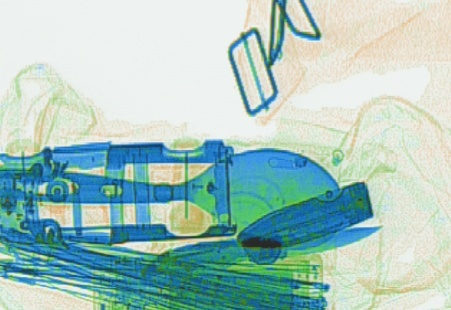knife: (137, 223, 380, 273), (235, 178, 376, 255)
